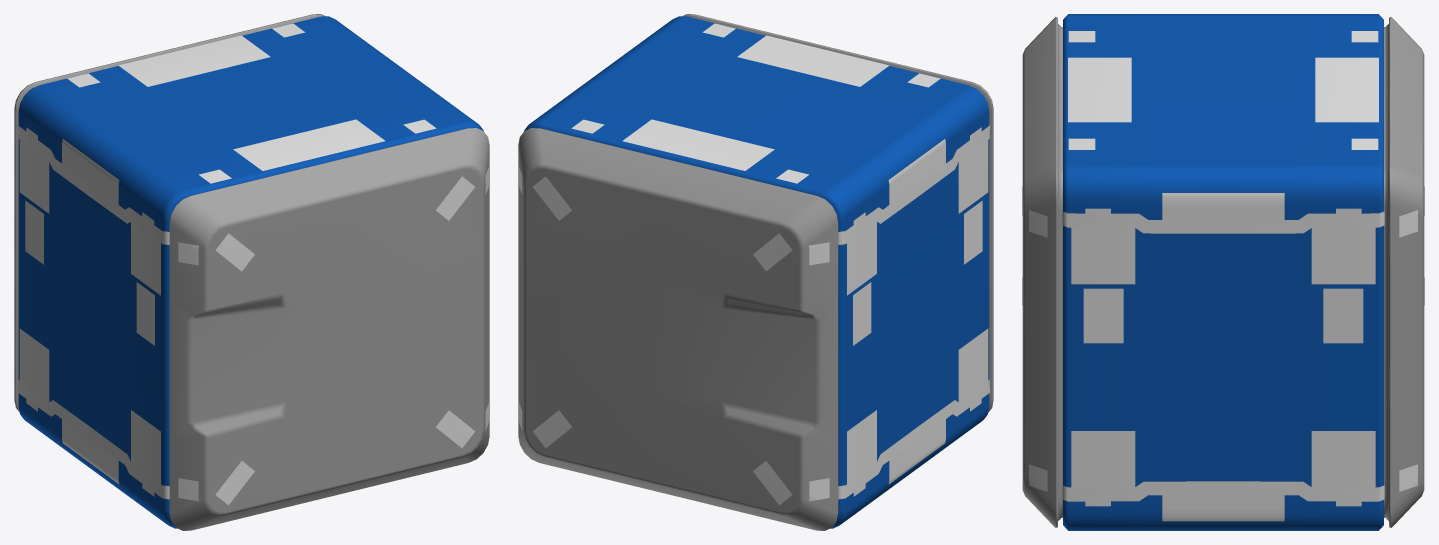
3 views of the same model, side by side, from view 1: azimuth 30°, elevation 25°; view 2: azimuth 150°, elevation 25°; view 3: azimuth 270°, elevation 25° (orthographic). The views are drawn at different scales.
Parts seen in each view (by area): view 1: Cube.063, Cube.061, StylizedHardSurface_Decals_041.002_projected, StylizedHardSurface_Decals_037.003_projected, StylizedHardSurface_Panels_002.016, StylizedHardSurface_Decals_034.007_projected, StylizedHardSurface_Decals_059.002_projected, StylizedHardSurface_Decals_022.002_projected, StylizedHardSurface_Decals_016.002_projected, StylizedHardSurface_Decals_015.002_projected, StylizedHardSurface_Decals_034.008_projected; view 2: Cube.063, Cube.061, StylizedHardSurface_Decals_041.002_projected, StylizedHardSurface_Decals_037.003_projected, StylizedHardSurface_Panels_002.016, StylizedHardSurface_Decals_034.007_projected, StylizedHardSurface_Decals_059.002_projected, StylizedHardSurface_Decals_022.002_projected, StylizedHardSurface_Decals_016.002_projected, StylizedHardSurface_Decals_015.002_projected, StylizedHardSurface_Decals_034.008_projected; view 3: Cube.061, Cube.063, StylizedHardSurface_Decals_037.003_projected, StylizedHardSurface_Panels_002.016, StylizedHardSurface_Decals_041.002_projected, StylizedHardSurface_Decals_059.002_projected, StylizedHardSurface_Decals_022.002_projected, StylizedHardSurface_Decals_015.002_projected, StylizedHardSurface_Decals_034.008_projected, StylizedHardSurface_Decals_016.002_projected.
Part boxes in pixels (left/top/right/bottom): Cube.063: left=14, top=14, right=489, bottom=530; Cube.061: left=18, top=16, right=483, bottom=528; StylizedHardSurface_Decals_041.002_projected: left=118, top=35, right=385, bottom=170; StylizedHardSurface_Decals_037.003_projected: left=19, top=139, right=160, bottom=485; StylizedHardSurface_Panels_002.016: left=18, top=125, right=169, bottom=499; StylizedHardSurface_Decals_034.007_projected: left=215, top=176, right=474, bottom=505; StylizedHardSurface_Decals_059.002_projected: left=62, top=139, right=119, bottom=484; StylizedHardSurface_Decals_022.002_projected: left=25, top=200, right=154, bottom=345; StylizedHardSurface_Decals_016.002_projected: left=67, top=23, right=436, bottom=183; StylizedHardSurface_Decals_015.002_projected: left=178, top=167, right=488, bottom=501; StylizedHardSurface_Decals_034.008_projected: left=26, top=127, right=154, bottom=496; Cube.063: left=518, top=14, right=993, bottom=530; Cube.061: left=524, top=16, right=989, bottom=528; StylizedHardSurface_Decals_041.002_projected: left=622, top=35, right=889, bottom=170; StylizedHardSurface_Decals_037.003_projected: left=847, top=139, right=988, bottom=485; StylizedHardSurface_Panels_002.016: left=838, top=125, right=989, bottom=499; StylizedHardSurface_Decals_034.007_projected: left=533, top=176, right=792, bottom=505; StylizedHardSurface_Decals_059.002_projected: left=888, top=139, right=945, bottom=484; StylizedHardSurface_Decals_022.002_projected: left=853, top=200, right=982, bottom=345; StylizedHardSurface_Decals_016.002_projected: left=571, top=23, right=940, bottom=183; StylizedHardSurface_Decals_015.002_projected: left=519, top=167, right=829, bottom=501; StylizedHardSurface_Decals_034.008_projected: left=853, top=127, right=981, bottom=496; Cube.061: left=1063, top=14, right=1383, bottom=530; Cube.063: left=1022, top=17, right=1424, bottom=527; StylizedHardSurface_Decals_037.003_projected: left=1071, top=226, right=1375, bottom=488; StylizedHardSurface_Panels_002.016: left=1062, top=211, right=1384, bottom=501; StylizedHardSurface_Decals_041.002_projected: left=1068, top=57, right=1378, bottom=122; StylizedHardSurface_Decals_059.002_projected: left=1162, top=193, right=1284, bottom=521; StylizedHardSurface_Decals_022.002_projected: left=1083, top=288, right=1363, bottom=343; StylizedHardSurface_Decals_015.002_projected: left=1029, top=210, right=1417, bottom=491; StylizedHardSurface_Decals_034.008_projected: left=1085, top=208, right=1361, bottom=506; StylizedHardSurface_Decals_016.002_projected: left=1068, top=31, right=1378, bottom=149.
Size of the model in its own units: 100 by 100 by 100.
